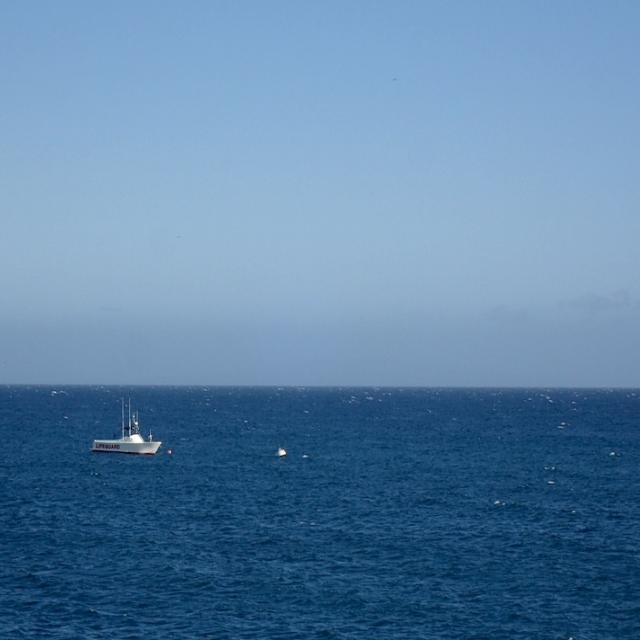houseboat: (90, 392, 162, 457)
